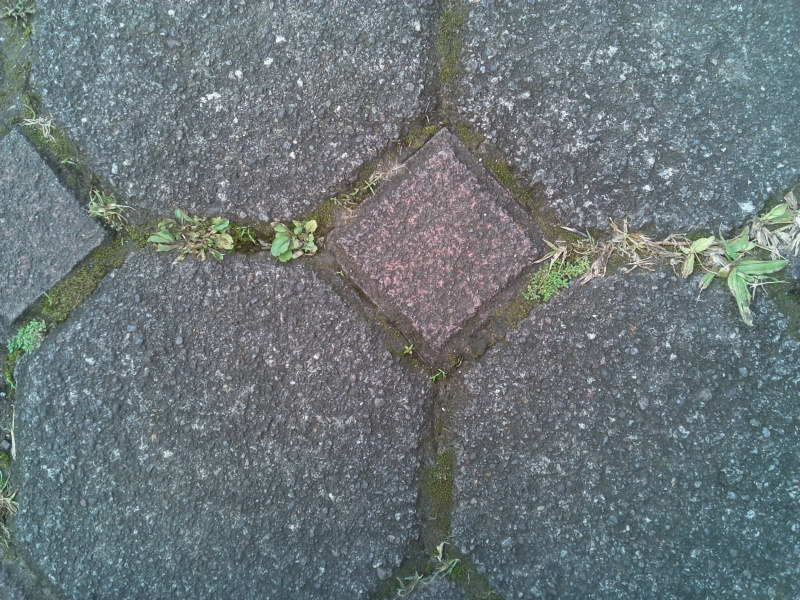Weed: (671, 223, 781, 328), (145, 202, 237, 263), (605, 214, 661, 284), (529, 243, 593, 304), (270, 212, 330, 267), (82, 183, 138, 239), (2, 316, 62, 364), (20, 97, 64, 143), (2, 1, 35, 34), (400, 564, 431, 595), (425, 361, 454, 391), (355, 175, 386, 200), (399, 337, 421, 362)
